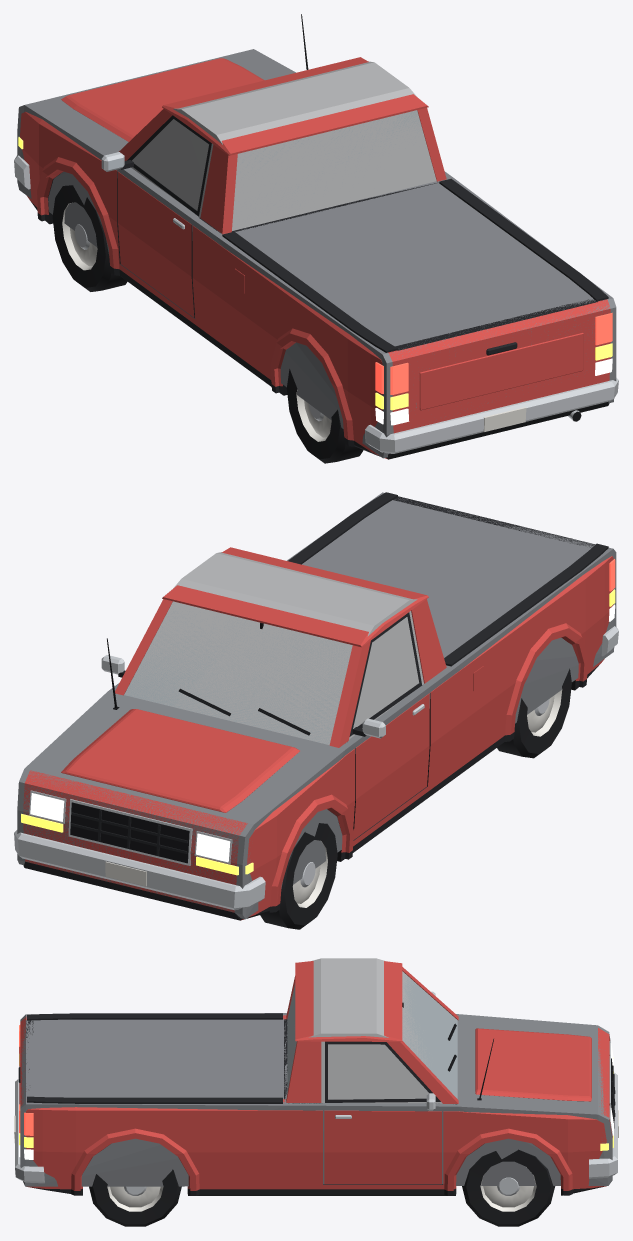
Rendered from car_pickup.glb.
The picture shows the model from 3 angles, top to bottom: view 1: azimuth 30°, elevation 25°; view 2: azimuth 150°, elevation 25°; view 3: azimuth 270°, elevation 25°; orthographic projection. The views are drawn at different scales.
Visible parts, largest first — view 1: car_pickup__body, car_pickup__col_body, car_pickup__col_cabin, car_pickup__door_fl, car_pickup__wheel_fl, car_pickup__wheel_rl; view 2: car_pickup__body, car_pickup__col_body, car_pickup__col_cabin, car_pickup__door_fl, car_pickup__wheel_fl, car_pickup__wheel_rl; view 3: car_pickup__body, car_pickup__col_body, car_pickup__col_cabin, car_pickup__door_fr, car_pickup__wheel_fr, car_pickup__wheel_rr.
Part boxes in pixels (x1=…): car_pickup__body: x1=14, y1=14, x2=618, y2=459; car_pickup__col_body: x1=17, y1=49, x2=616, y2=458; car_pickup__col_cabin: x1=131, y1=61, x2=436, y2=230; car_pickup__door_fl: x1=101, y1=115, x2=211, y2=317; car_pickup__wheel_fl: x1=52, y1=185, x2=127, y2=291; car_pickup__wheel_rl: x1=286, y1=369, x2=363, y2=463; car_pickup__body: x1=14, y1=492, x2=618, y2=920; car_pickup__col_body: x1=17, y1=492, x2=616, y2=919; car_pickup__col_cabin: x1=124, y1=552, x2=423, y2=744; car_pickup__door_fl: x1=349, y1=612, x2=429, y2=839; car_pickup__wheel_fl: x1=260, y1=823, x2=337, y2=929; car_pickup__wheel_rl: x1=497, y1=668, x2=571, y2=758; car_pickup__body: x1=14, y1=961, x2=618, y2=1195; car_pickup__col_body: x1=20, y1=1013, x2=612, y2=1186; car_pickup__col_cabin: x1=287, y1=958, x2=457, y2=1103; car_pickup__door_fr: x1=324, y1=1041, x2=441, y2=1184; car_pickup__wheel_fr: x1=462, y1=1149, x2=555, y2=1226; car_pickup__wheel_rr: x1=89, y1=1169, x2=181, y2=1226.
Size of what is drawn, in the model's own units: 2.32 by 1.85 by 5.41.
Materials: 9 (2 with a texture image).
